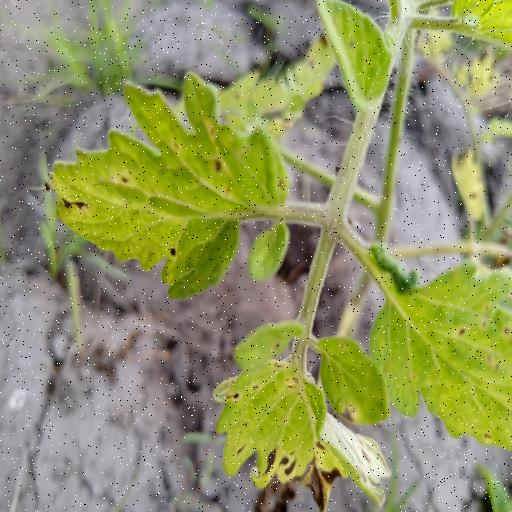Tomato_Brown_Spots: (37, 68, 298, 297)
